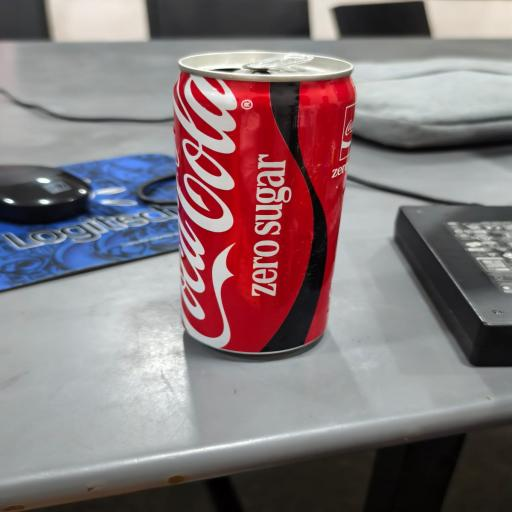coca_cola: (174, 52, 355, 355)
